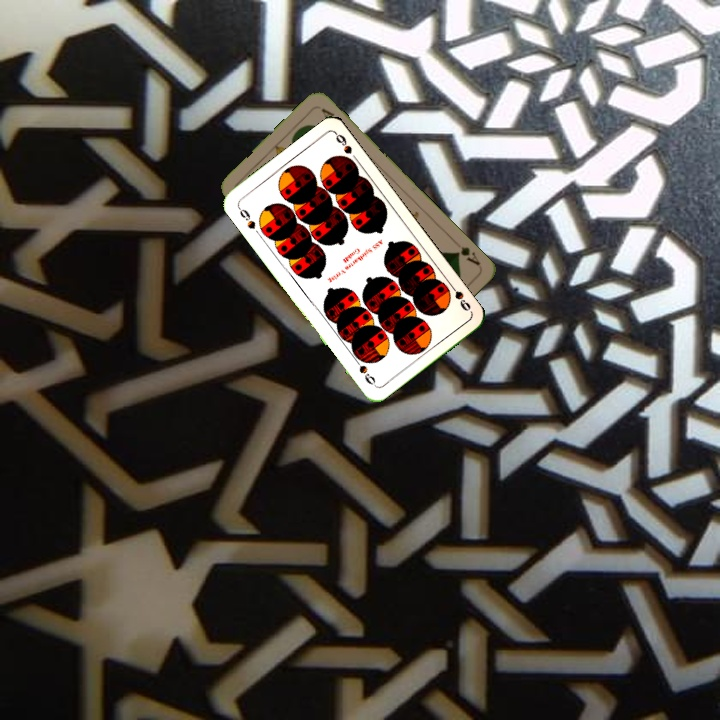GA: (451, 242, 483, 269)
S9: (441, 279, 474, 314), (233, 202, 258, 232)
